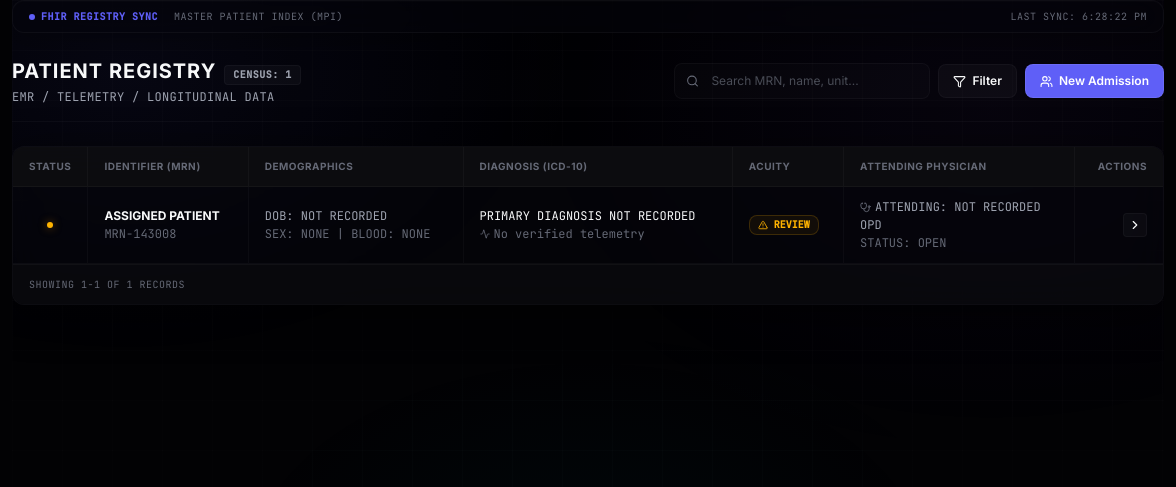
Test: PatientsPage registry filtering › opens a new admission patient-selection worklist from the registry action
This screenshot has width=1176, height=487.
Expected: the text "Assigned Patient" is shown, 104,208 -> 232,224
Click the button with aria-label "New patient admission": point(1094, 81) 1025,64 -> 1164,98
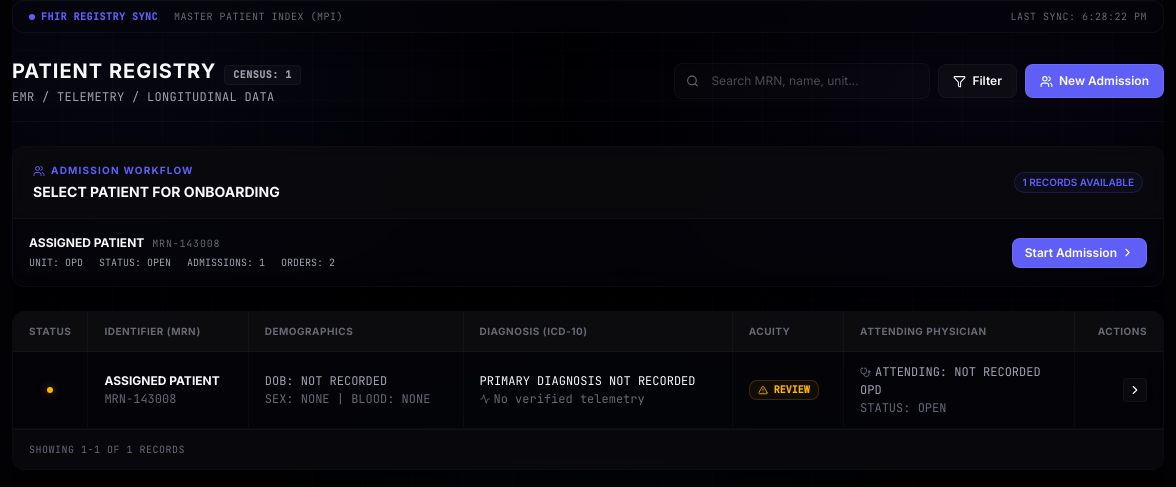
Result: the element named "New admission patient selection" is shown at 12,146 -> 1164,287
Result: the text "Admissions: 1" is shown at 187,255 -> 265,270
